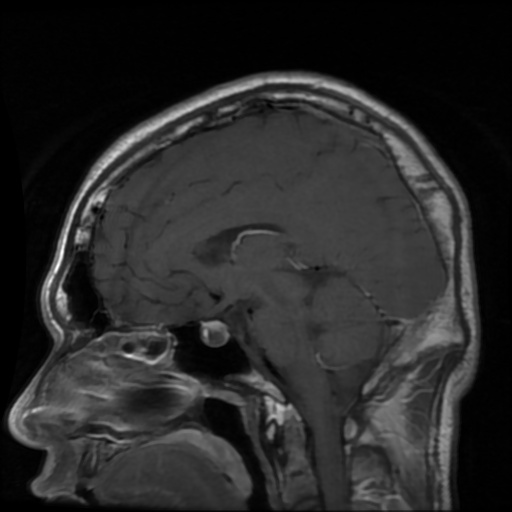pituitary: (201, 321, 230, 347)
